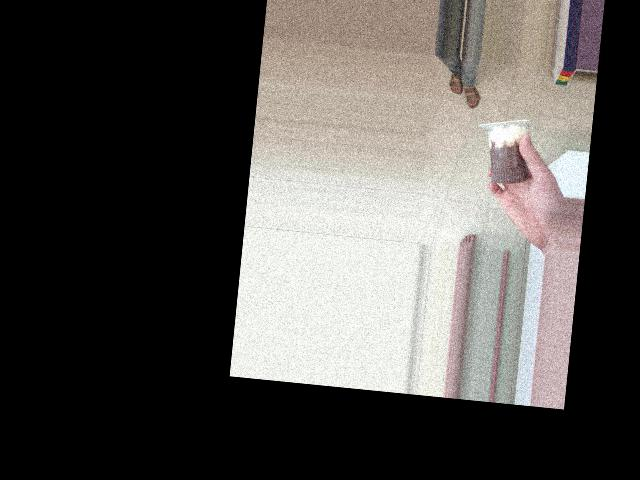milky: (481, 117, 533, 204)
